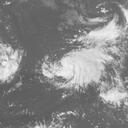cyclone: (42, 49, 110, 88)
